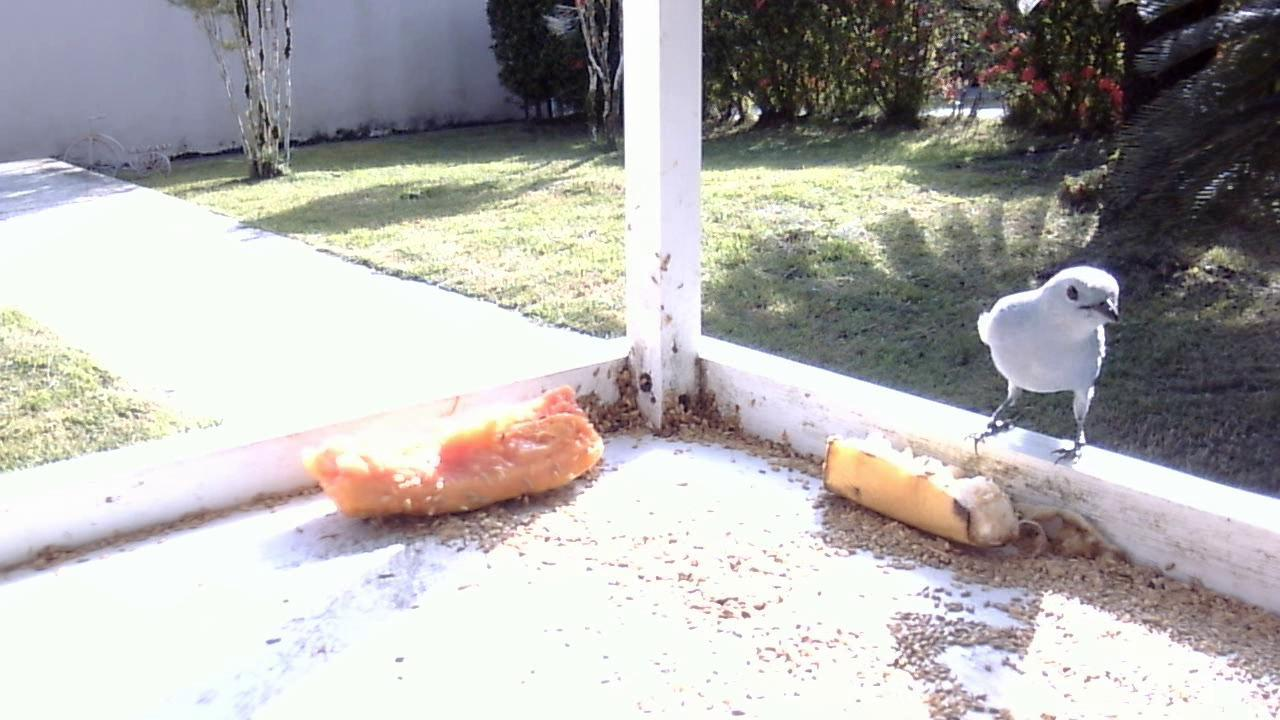sanhaco_da_amazonia: (963, 252, 1125, 469)
